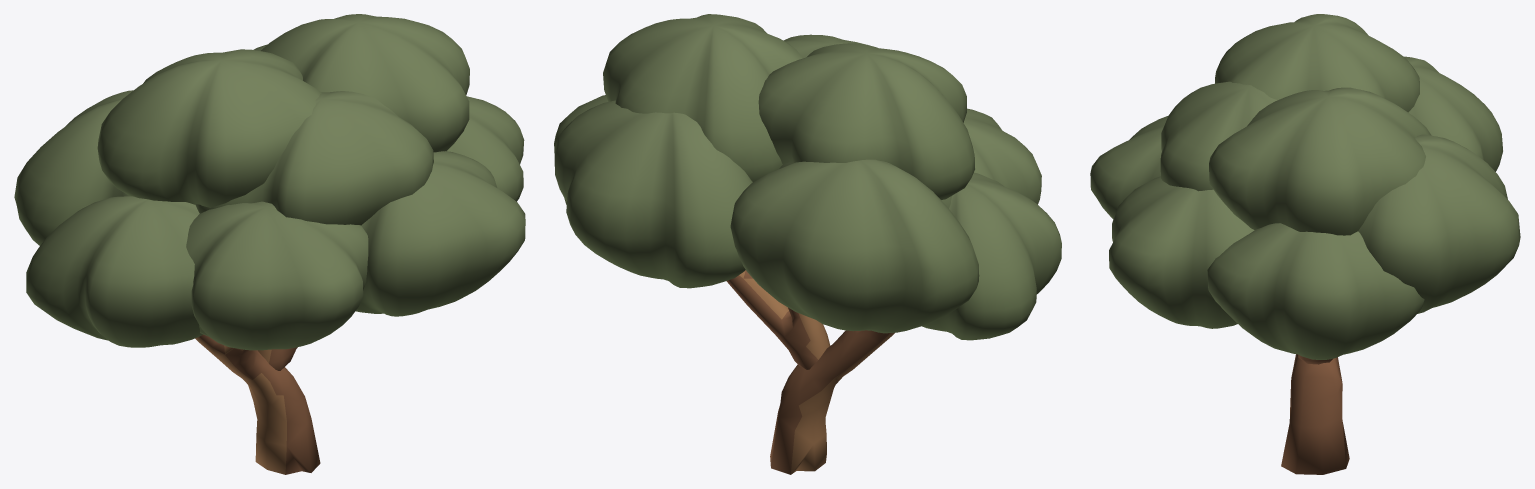
File: tree-b.glb
The picture shows the model from 3 angles, left to right: view 1: azimuth 30°, elevation 25°; view 2: azimuth 150°, elevation 25°; view 3: azimuth 270°, elevation 25°; orthographic projection. The views are drawn at different scales.
Visible parts, largest first — view 1: tree-b-canopy, tree-b-trunk; view 2: tree-b-canopy, tree-b-trunk; view 3: tree-b-canopy, tree-b-trunk.
Part boxes in pixels (x1,y1,x2,y2): tree-b-canopy: (14, 14, 525, 350); tree-b-trunk: (195, 334, 320, 474); tree-b-canopy: (554, 14, 1061, 340); tree-b-trunk: (726, 270, 894, 474); tree-b-canopy: (1090, 14, 1520, 359); tree-b-trunk: (1281, 354, 1349, 474).
Size of the model in its own units: 3.9 by 3.3 by 3.17.
